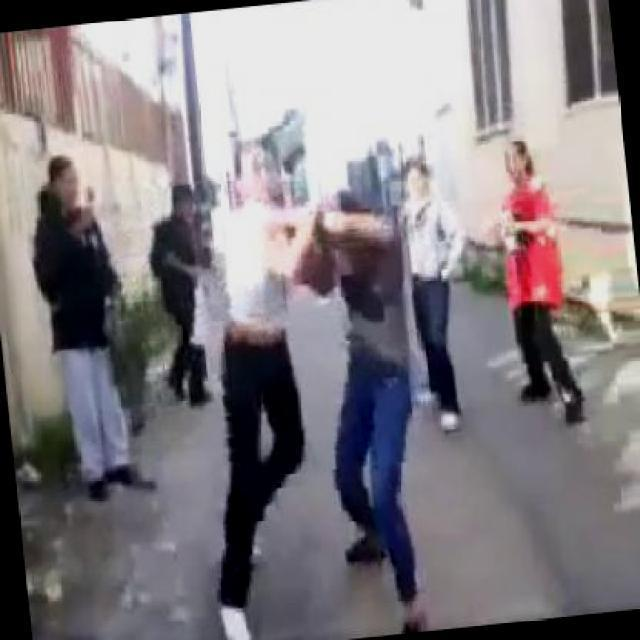fight: (177, 127, 446, 638)
non-fight: (20, 146, 160, 502), (488, 133, 592, 430), (393, 148, 482, 430)
